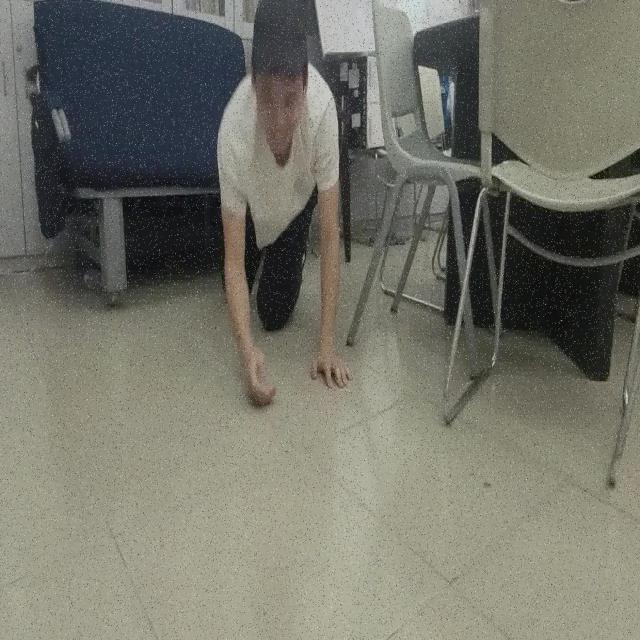fall: (215, 0, 353, 404)
